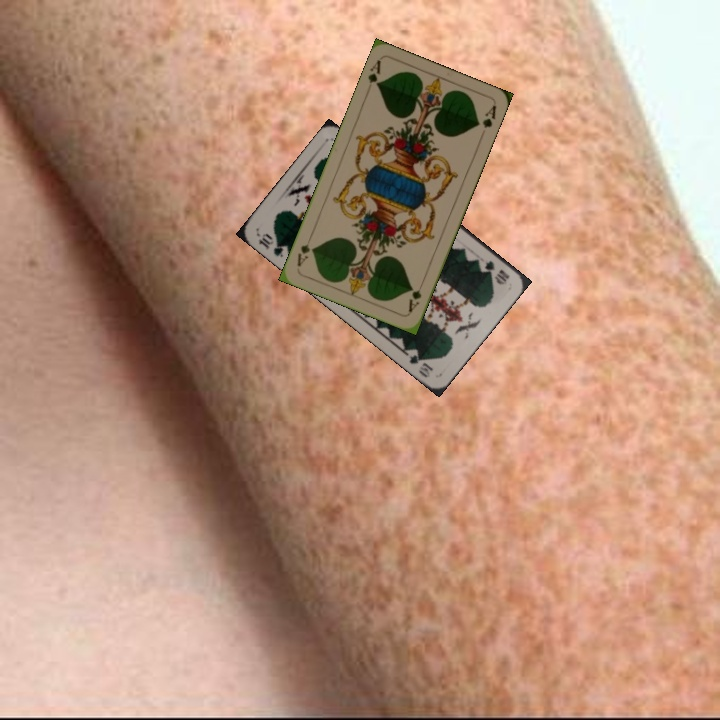G10: (480, 256, 512, 287), (254, 229, 286, 260)
GA: (364, 55, 384, 90), (404, 284, 424, 315)
